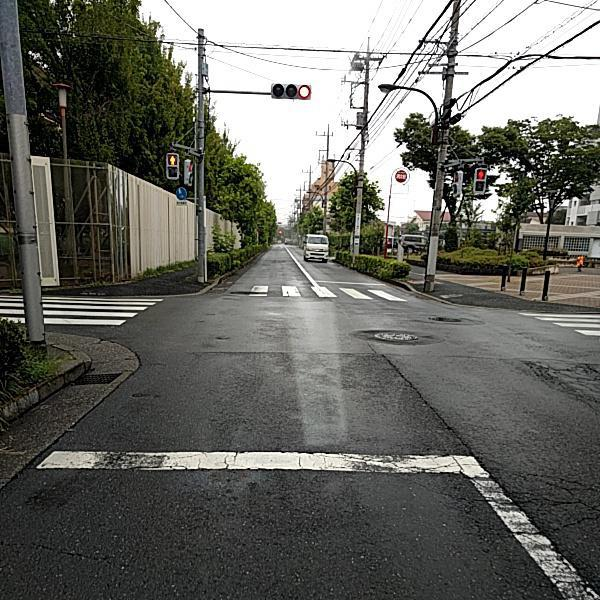D10: (2, 528, 141, 573)
D20: (473, 458, 599, 536), (519, 357, 599, 408)
D44: (34, 434, 488, 477), (455, 450, 579, 588)
D50: (370, 329, 420, 341), (424, 315, 463, 324)
